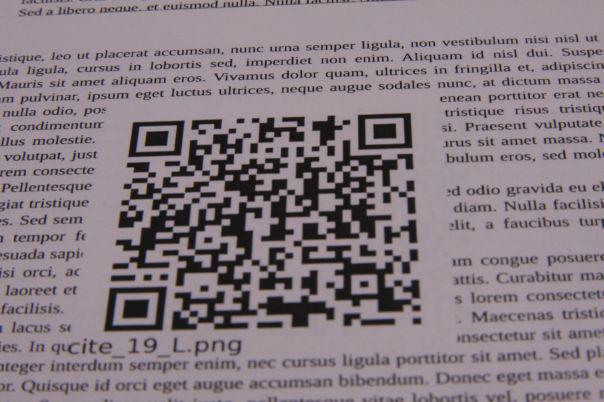Finder pattern: (100, 283, 172, 338), (123, 117, 189, 162), (353, 110, 417, 153)
